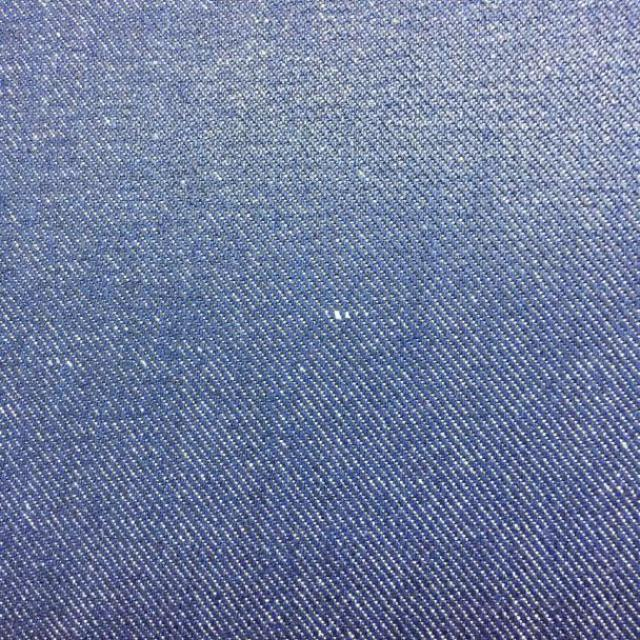Knot: (323, 307, 369, 323)
